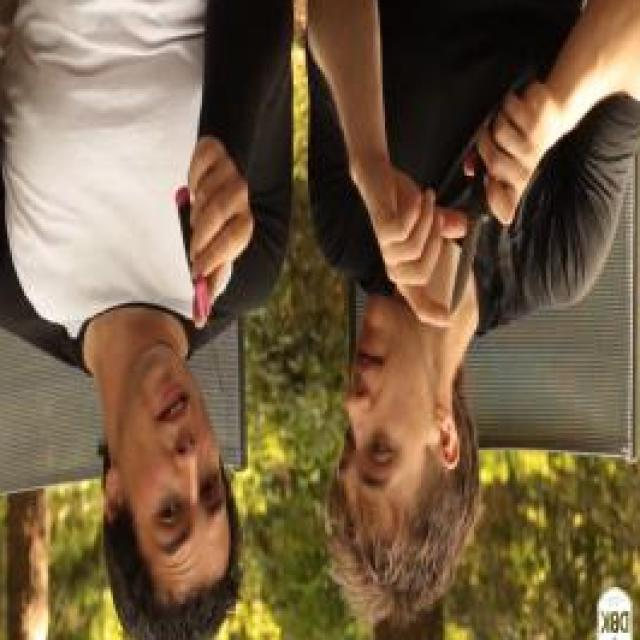knife: (440, 92, 512, 334), (171, 162, 236, 412)
